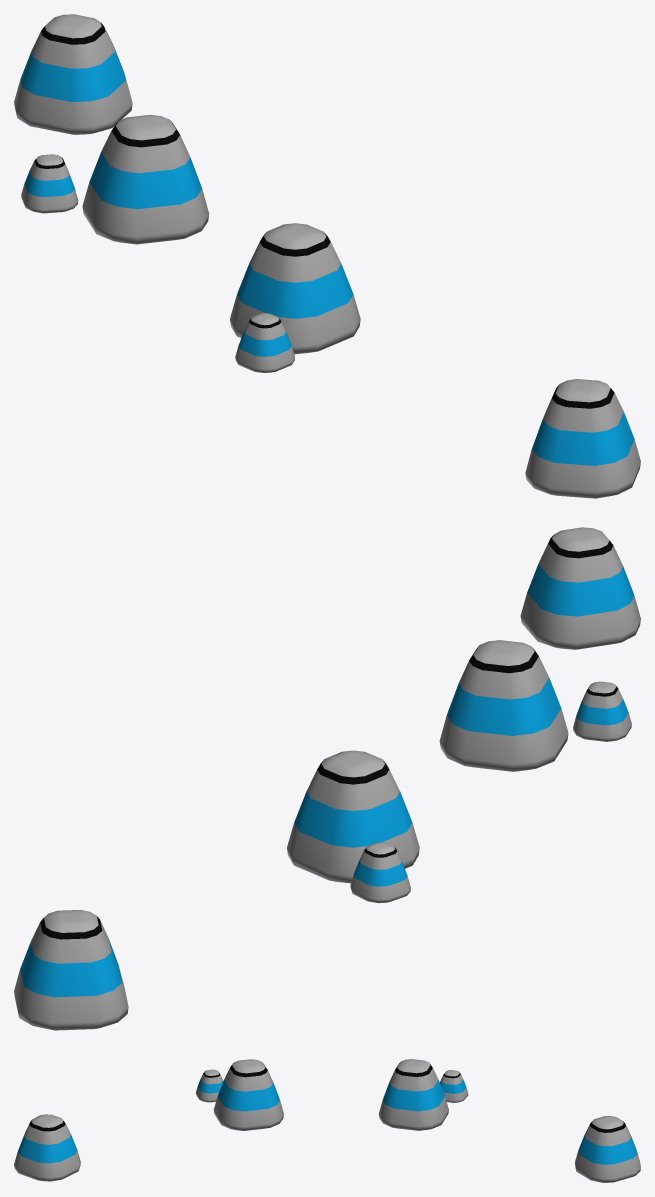
File: Pilarsweight.fbx
The picture shows the model from 3 angles, top to bottom: view 1: azimuth 30°, elevation 25°; view 2: azimuth 150°, elevation 25°; view 3: azimuth 270°, elevation 25°; orthographic projection. The views are drawn at different scales.
Parts seen in each view (by area): view 1: BoyaBandera22, BoyaBandera23, BoyaBandera17, BoyaBandera18, BoyaBandera26, BoyaBandera27; view 2: BoyaBandera23, BoyaBandera22, BoyaBandera18, BoyaBandera17, BoyaBandera27, BoyaBandera26; view 3: BoyaBandera23, BoyaBandera22, BoyaBandera18, BoyaBandera17, BoyaBandera27, BoyaBandera26.
Part boxes in pixels (x1,y1,x2,y2): BoyaBandera22: (82,114,209,244); BoyaBandera23: (230,223,360,354); BoyaBandera17: (14,14,132,134); BoyaBandera18: (525,379,640,498); BoyaBandera26: (235,313,294,372); BoyaBandera27: (21,154,78,213); BoyaBandera23: (439,640,568,771); BoyaBandera22: (287,750,419,883); BoyaBandera18: (520,527,640,649); BoyaBandera17: (14,910,128,1030); BoyaBandera27: (350,842,410,903); BoyaBandera26: (573,681,631,741); BoyaBandera23: (213,1059,283,1130); BoyaBandera22: (378,1059,448,1130); BoyaBandera18: (14,1114,80,1181); BoyaBandera17: (575,1116,640,1182); BoyaBandera27: (440,1070,468,1102); BoyaBandera26: (196,1069,223,1102).
Bounding box in the file's own units: 21.06 × 12.14 × 83.47.
